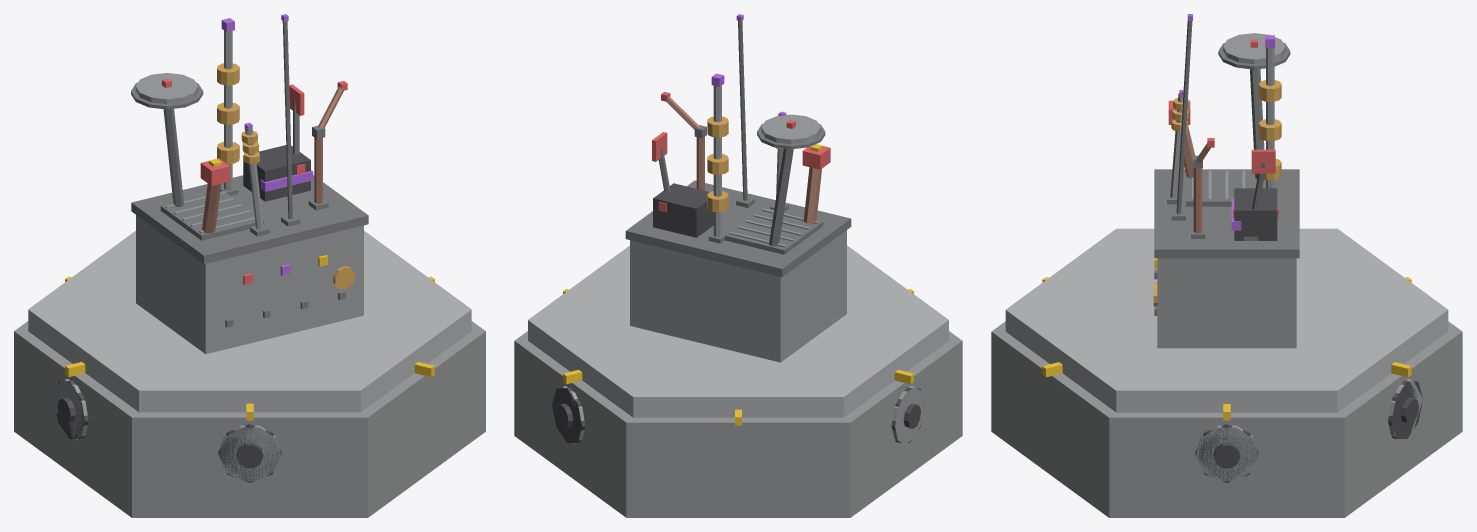
The model's file is jammer_s2_100.glb.
3 renders of one model, left to right at view 1: azimuth 30°, elevation 25°; view 2: azimuth 150°, elevation 25°; view 3: azimuth 270°, elevation 25°, orthographic. The views are drawn at different scales.
Parts seen in each view (by area): view 1: Jammer_s2; view 2: Jammer_s2; view 3: Jammer_s2.
Boxes of the visible parts, x1,y1,x2,y2 form: Jammer_s2: (14, 14, 485, 517); Jammer_s2: (514, 14, 962, 517); Jammer_s2: (991, 14, 1462, 517).
Bounding box in the file's own units: 1.78 × 1.95 × 1.96.
